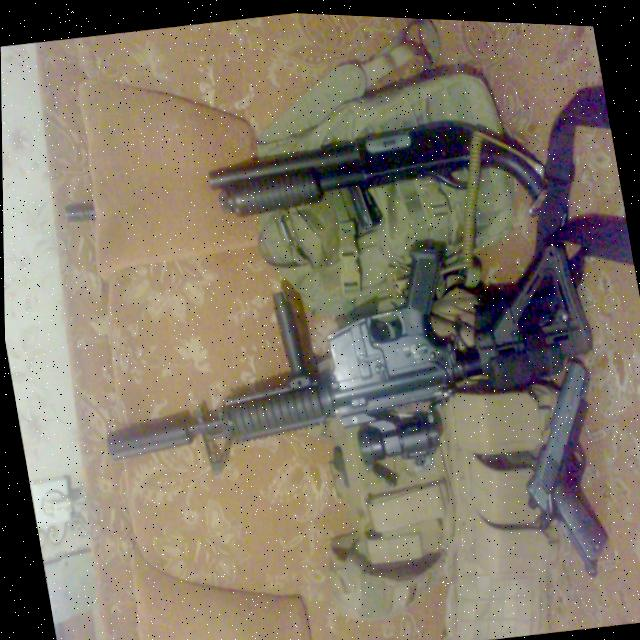firearm: (73, 191, 608, 513), (197, 84, 561, 252)
pistol: (499, 345, 623, 583)
